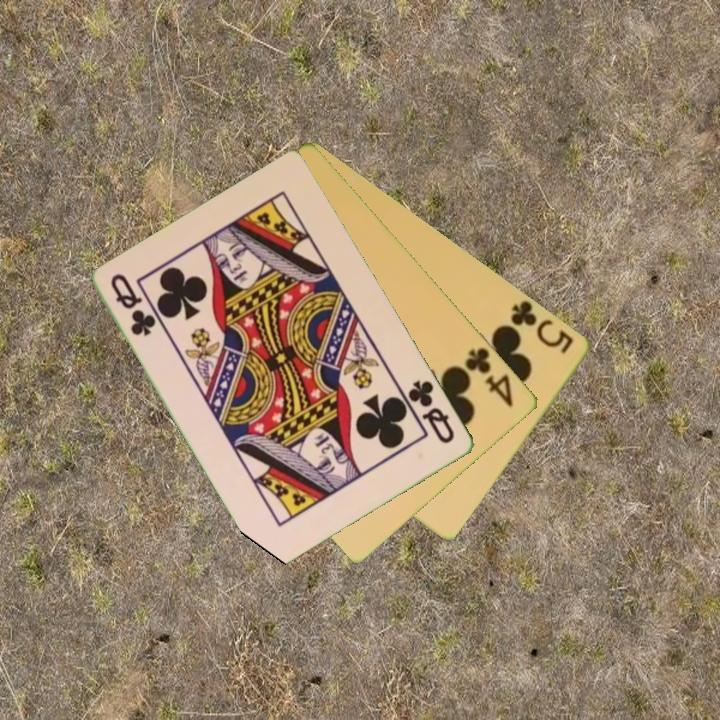4c: (461, 343, 517, 411)
5c: (506, 296, 577, 357)
Qc: (404, 376, 458, 447), (107, 270, 159, 340)
